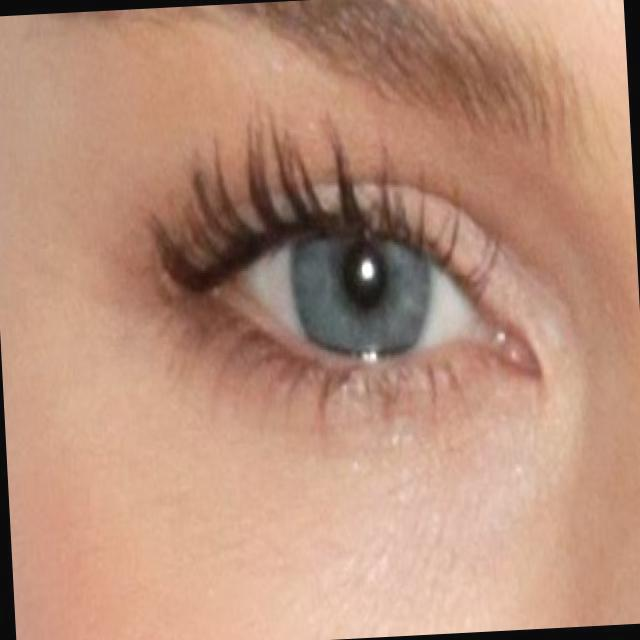Normal: (144, 108, 577, 464)
